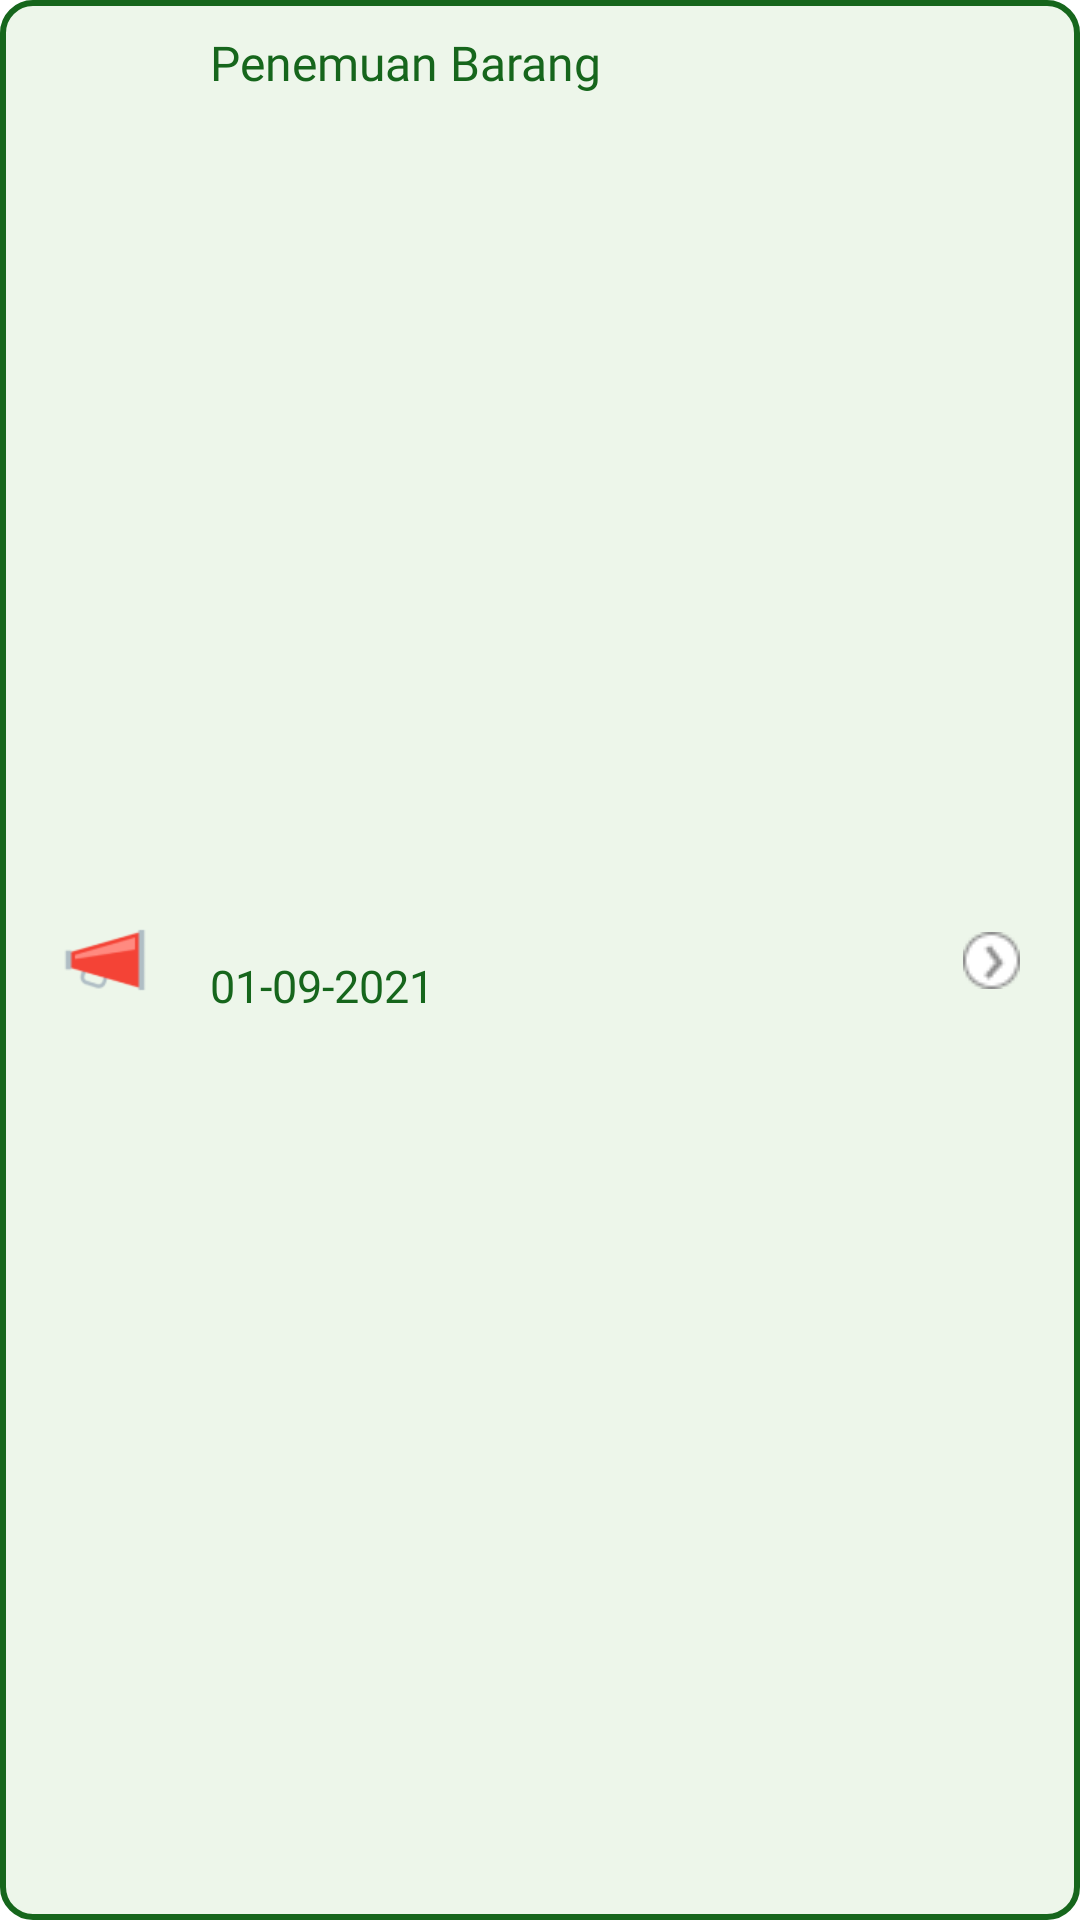

Where icons sit on this 1080 × 1920 app screen, as bbox=[x1, y1, x2, y2]:
circle arrow: bbox=[963, 932, 1020, 989]
list pengumuman: bbox=[66, 930, 144, 990]
